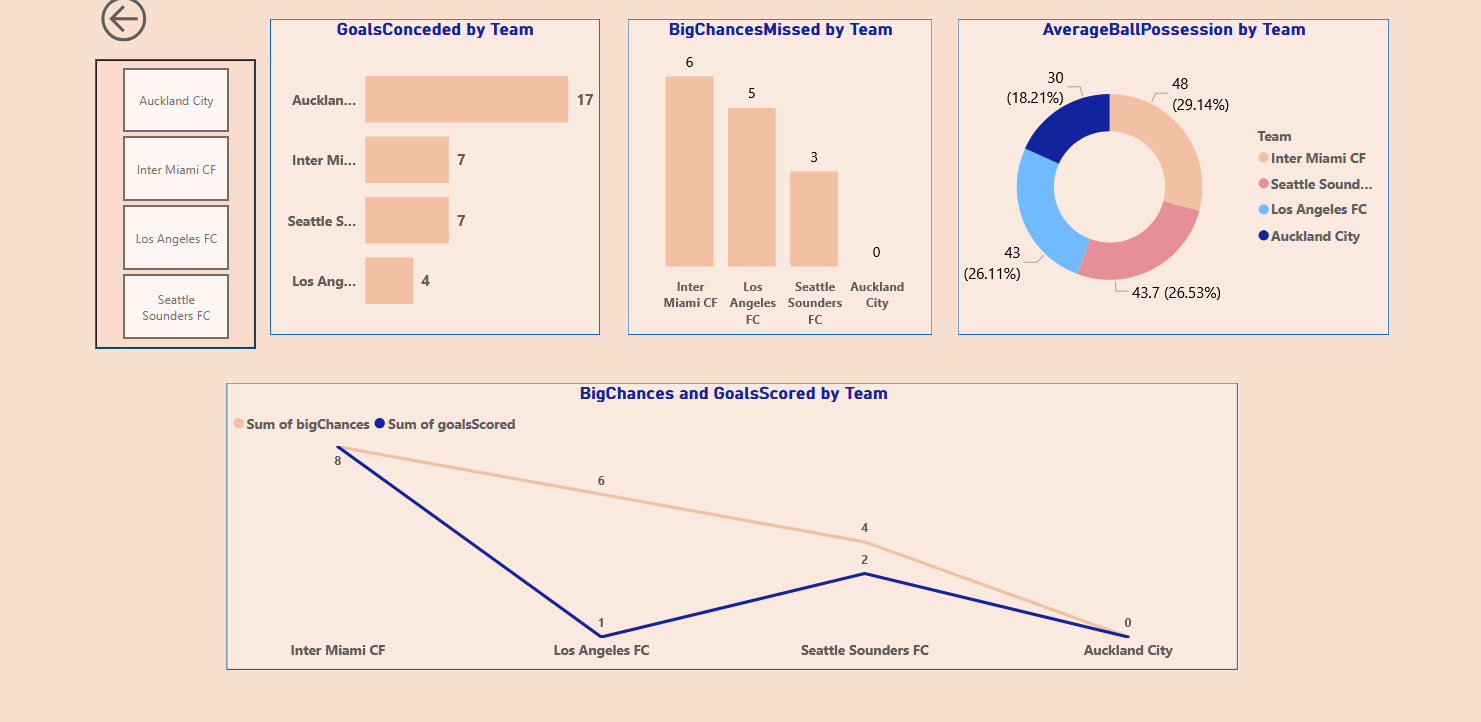

The page's visual inventory and layout, read from the dashboard file:
{"tool":"powerbi","page":{"name":"OC & NORD","canvas":[1280,720],"ordinal":5},"visuals":[{"type":"clusteredBarChart","title":"GoalsConceded by Team","fields":{"Category":["club_world_top_teams.Team"],"Y":["Sum(club_world_top_teams.goalsConceded)"]},"box":[179.8,28.1,321.6,308.2],"z":0},{"type":"lineStackedColumnComboChart","title":"BigChancesMissed by Team","fields":{"Category":["club_world_top_teams.Team"],"Y":["Sum(club_world_top_teams.bigChancesMissed)"]},"box":[528.3,28.1,297.1,308.2],"z":1000},{"type":"donutChart","title":"AverageBallPossession by Team","fields":{"Category":["club_world_top_teams.Team"],"Y":["Sum(club_world_top_teams.averageBallPossession)"]},"box":[849.9,28.1,420.7,308.2],"z":2000},{"type":"lineChart","title":"BigChances and GoalsScored by Team","fields":{"Category":["club_world_top_teams.Team"],"Y":["Sum(club_world_top_teams.bigChances)"],"Y2":["Sum(club_world_top_teams.goalsScored)"]},"box":[138.6,382.8,985.3,279.9],"z":3000},{"type":"slicer","fields":{"Values":["club_world_top_teams.Team"]},"box":[9.8,67.3,156.5,282.5],"z":4000},{"type":"actionButton","box":[9.6,0,107,56.3],"z":5000},{"type":"shape","box":[849.9,28.1,420.7,308.2],"z":6000},{"type":"shape","box":[528.3,28.1,297.1,308.2],"z":7000},{"type":"shape","box":[179.8,28.1,321.6,308.2],"z":8000},{"type":"shape","box":[138.2,382.7,985.6,280],"z":9000},{"type":"shape","box":[9.8,67.3,156.5,282.5],"z":10000}]}

Visuals, with their boxes on the page's 1280x720 design canvas (x1, y1, x2, y2). These are canvas units, not pixel positions in the 1481x722 screenshot, which may show the page scaled, cropped or inside an application window:
"GoalsConceded by Team" clusteredBarChart: [180,28,501,336]
"BigChancesMissed by Team" lineStackedColumnComboChart: [528,28,825,336]
"AverageBallPossession by Team" donutChart: [850,28,1271,336]
"BigChances and GoalsScored by Team" lineChart: [139,383,1124,663]
slicer - club_world_top_teams.Team: [10,67,166,350]
actionButton: [10,0,117,56]
shape: [850,28,1271,336]
shape: [528,28,825,336]
shape: [180,28,501,336]
shape: [138,383,1124,663]
shape: [10,67,166,350]
